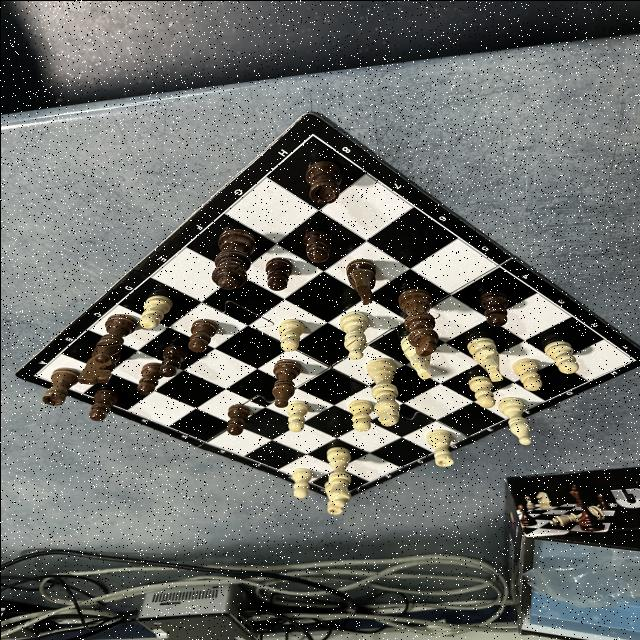Black-Bishop: (93, 313, 137, 362), (270, 358, 300, 407)
Black-King: (396, 288, 437, 357)
Black-Knight: (76, 352, 121, 384), (346, 258, 376, 304)
Black-Pawn: (478, 290, 508, 326), (187, 318, 217, 352), (301, 229, 331, 262), (88, 388, 118, 420), (134, 362, 164, 394), (264, 256, 292, 290), (158, 344, 186, 376), (224, 402, 248, 434)
Black-Queen: (210, 227, 256, 289)
Black-Rook: (304, 160, 342, 203), (41, 366, 79, 405)
White-Bishop: (496, 396, 530, 444), (340, 311, 368, 359)
White-King: (366, 356, 400, 426)
White-Knight: (465, 336, 503, 381), (400, 342, 432, 378)
White-Pawn: (544, 339, 578, 374), (138, 294, 172, 328), (512, 358, 542, 390), (466, 375, 494, 407), (347, 398, 373, 431), (277, 318, 303, 351), (285, 399, 307, 432), (292, 468, 312, 498)
White-Queen: (326, 445, 351, 507)
White-Rook: (424, 428, 454, 466), (322, 480, 342, 514)
